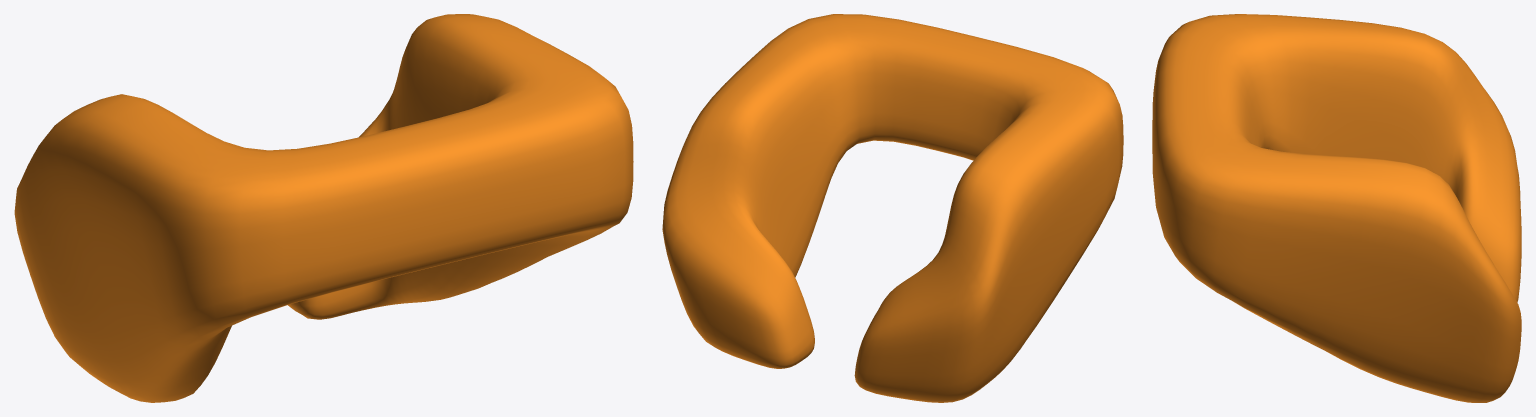
File: GiantBeard.fbx
The picture shows the model from 3 angles, left to right: view 1: azimuth 30°, elevation 25°; view 2: azimuth 150°, elevation 25°; view 3: azimuth 270°, elevation 25°; orthographic projection. The views are drawn at different scales.
Parts seen in each view (by area): view 1: Cube.001; view 2: Cube.001; view 3: Cube.001.
Part boxes in pixels (<box>): Cube.001: <box>14,14,633,402</box>; Cube.001: <box>662,14,1123,402</box>; Cube.001: <box>1152,14,1521,402</box>.
Size of the model in its own units: 125 by 83.79 by 109.
